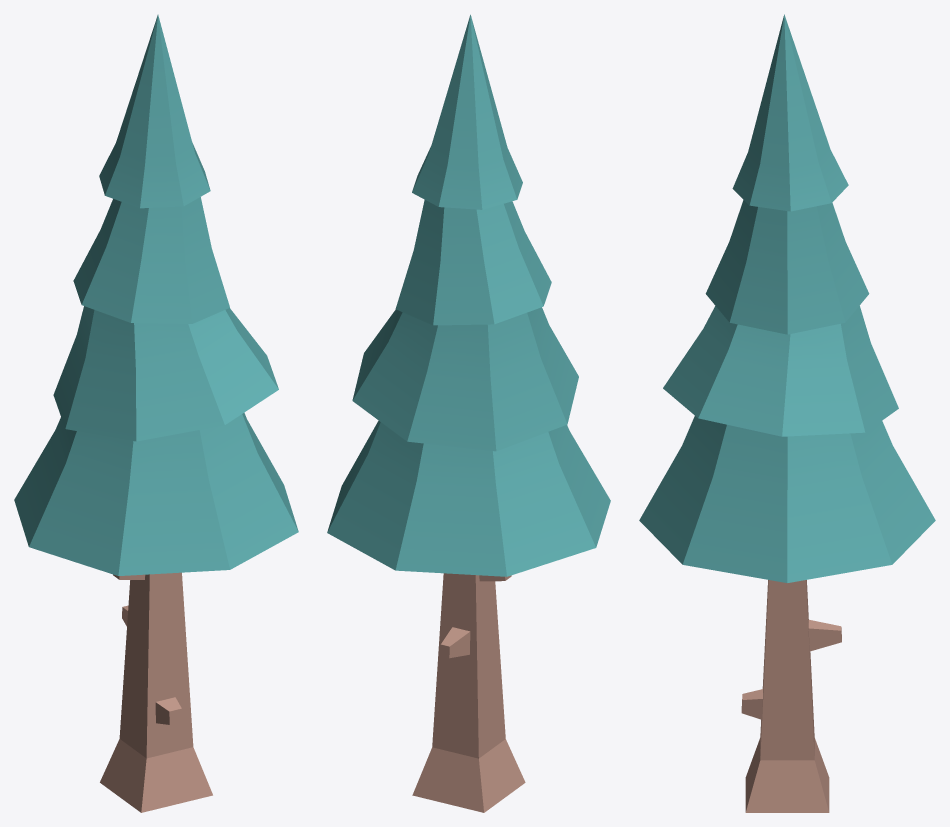
The model's file is tree_pineDefaultB.glb.
3 views of the same model, side by side, from view 1: azimuth 30°, elevation 25°; view 2: azimuth 150°, elevation 25°; view 3: azimuth 270°, elevation 25° (orthographic).
Parts seen in each view (by area): view 1: tree_pineDefaultB; view 2: tree_pineDefaultB; view 3: tree_pineDefaultB.
Part boxes in pixels (x1,y1,x2,y2): tree_pineDefaultB: (14,14,298,812); tree_pineDefaultB: (327,14,610,812); tree_pineDefaultB: (639,14,935,812).
Size of the model in its own units: 0.532 by 1.55 by 0.532.
